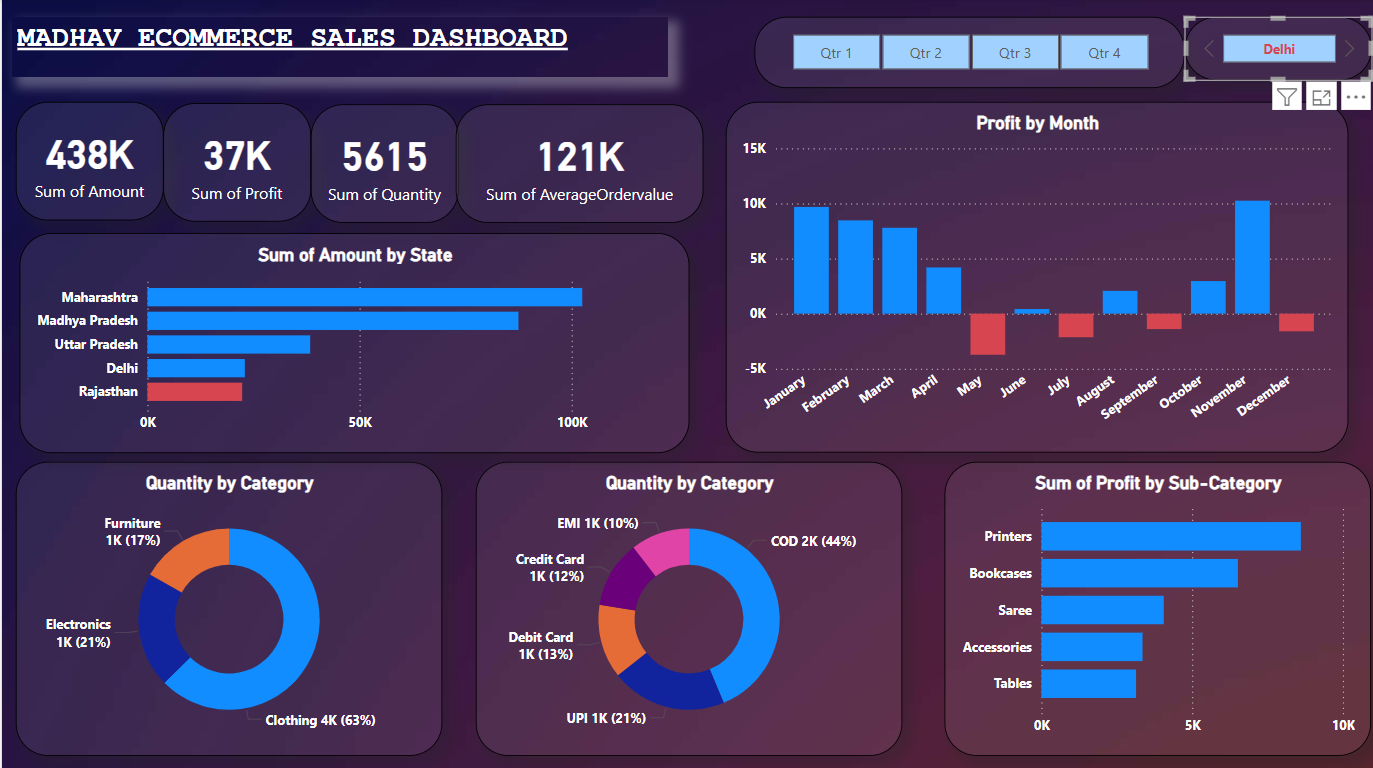

Layout of this report page (visuals, bound fields, positions):
{"tool":"powerbi","page":{"name":"Madhav Sales","canvas":[1280,720],"ordinal":0},"visuals":[{"type":"textbox","box":[9.3,17.4,610.5,55.8],"z":0},{"type":"columnChart","title":"Profit by Month","fields":{"Y":["Details.Profit"],"Category":["Orders.Order Date.Variation.Date Hierarchy.Month"]},"box":[673.3,96.5,579.1,326.7],"z":1000},{"type":"clusteredBarChart","fields":{"Category":["Details.Sub-Category"],"Y":["Details.Profit"]},"box":[876.7,431.4,396.5,273.3],"z":2000},{"type":"donutChart","title":"Quantity by Category","fields":{"Category":["Details.Category"],"Y":["Details.Quantity"]},"box":[12.8,431.4,396.5,273.3],"z":3000},{"type":"donutChart","title":"Quantity by Category","fields":{"Y":["Details.Quantity"],"Category":["Details.PaymentMode"]},"box":[440.7,431.4,396.5,273.3],"z":4000},{"type":"card","fields":{"Values":["Details.Amount"]},"box":[12.8,96.5,137.2,110.5],"z":5000},{"type":"card","fields":{"Values":["Details.Profit"]},"box":[150,97.7,137.2,110.5],"z":6000},{"type":"card","fields":{"Values":["Details.Quantity"]},"box":[287.2,98.8,137.2,110.5],"z":7000},{"type":"card","fields":{"Values":["Details.AverageOrdervalue"]},"box":[422.1,98.8,230.2,110.5],"z":8000},{"type":"barChart","fields":{"Category":["Orders.State"],"Y":["Details.Amount"]},"box":[16.3,218.6,623.3,204.7],"z":9000},{"type":"slicer","fields":{"Values":["Orders.Order Date.Variation.Date Hierarchy.Quarter"]},"box":[700,17.4,400,66.3],"z":10000},{"type":"slicer","fields":{"Values":["Orders.State"]},"box":[1100,17.4,174.4,59.3],"z":11000}]}

Visuals, with their boxes in screenshot pixels (x1, y1, x2, y2), scaled from the page's 1280x720 canvas onto the 1373x768 screenshot:
textbox: box(10, 19, 665, 78)
"Profit by Month" columnChart: box(722, 103, 1343, 451)
clusteredBarChart - Details.Sub-Category x Details.Profit: box(940, 460, 1366, 752)
"Quantity by Category" donutChart: box(14, 460, 439, 752)
"Quantity by Category" donutChart: box(473, 460, 898, 752)
card - Details.Amount: box(14, 103, 161, 221)
card - Details.Profit: box(161, 104, 308, 222)
card - Details.Quantity: box(308, 105, 455, 223)
card - Details.AverageOrdervalue: box(453, 105, 700, 223)
barChart - Orders.State x Details.Amount: box(17, 233, 686, 452)
slicer - Orders.Order Date.Variation.Date Hierarchy.Quarter: box(751, 19, 1180, 89)
slicer - Orders.State: box(1180, 19, 1367, 82)
